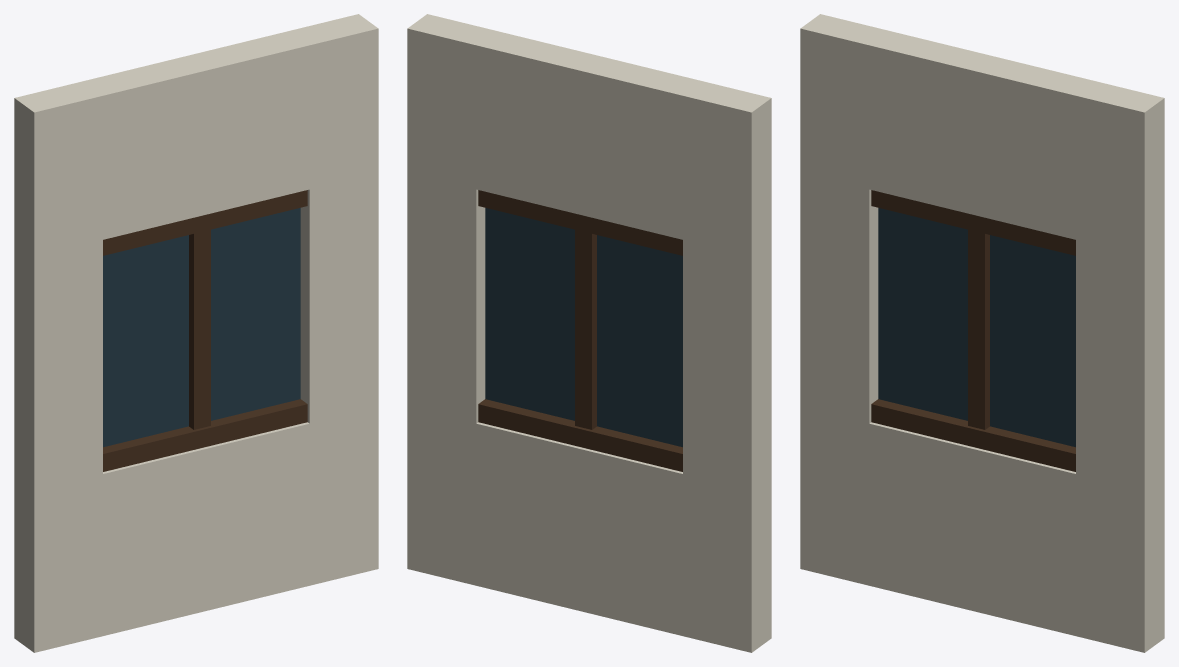
Rendered from kit_window_2.glb.
The picture shows the model from 3 angles, left to right: view 1: azimuth 30°, elevation 25°; view 2: azimuth 150°, elevation 25°; view 3: azimuth 330°, elevation 25°; orthographic projection.
Parts seen in each view (by area): view 1: placeholder; view 2: placeholder; view 3: placeholder.
Boxes of the visible parts, x1,y1,x2,y2 form: placeholder: (14, 14, 378, 652); placeholder: (407, 14, 771, 652); placeholder: (800, 14, 1164, 652).
Size of the model in its own units: 2 by 3 by 0.2.
